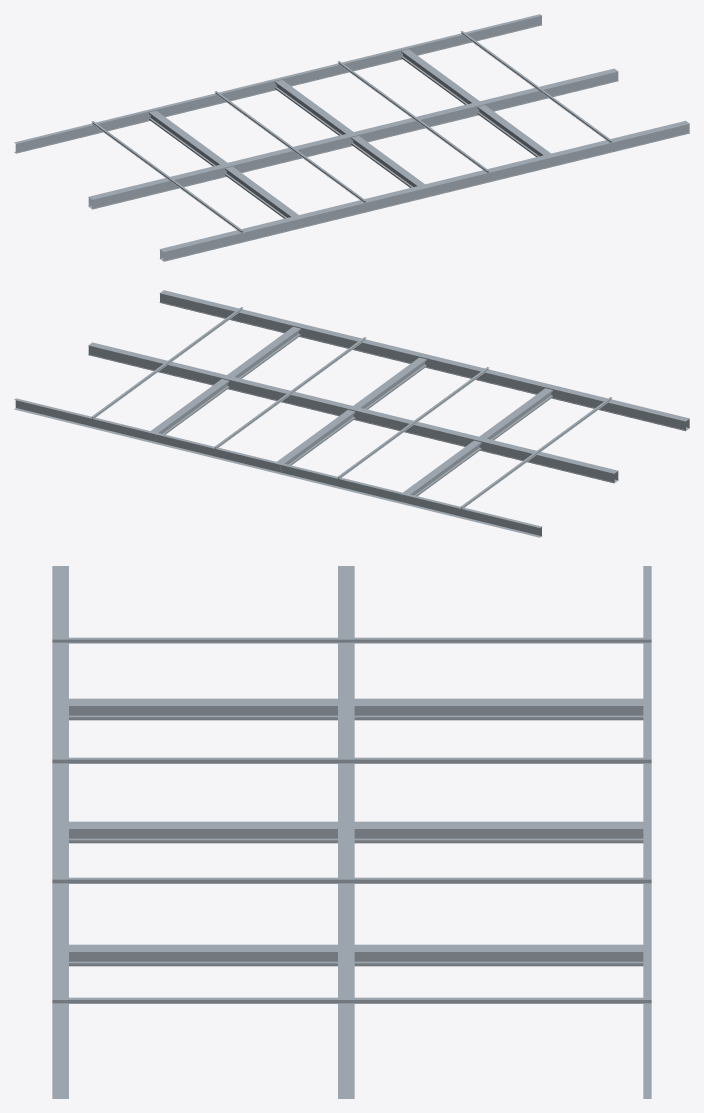
Rendered from SM06_Building_Structure_Roof_Flat_02_Corner.fbx.
3 views of the same model, one above another, from view 1: azimuth 30°, elevation 25°; view 2: azimuth 150°, elevation 25°; view 3: azimuth 270°, elevation 25° (orthographic). The views are drawn at different scales.
Visible parts, largest first — view 1: SM06_Building_Structure_Roof_Flat_02_Corner; view 2: SM06_Building_Structure_Roof_Flat_02_Corner; view 3: SM06_Building_Structure_Roof_Flat_02_Corner.
Boxes of the visible parts, bbox=[...] form: SM06_Building_Structure_Roof_Flat_02_Corner: bbox=[14, 14, 689, 261]; SM06_Building_Structure_Roof_Flat_02_Corner: bbox=[14, 290, 689, 537]; SM06_Building_Structure_Roof_Flat_02_Corner: bbox=[52, 566, 651, 1098].
Bounding box in the file's own units: 28.84 × 0.6139 × 14.23.
